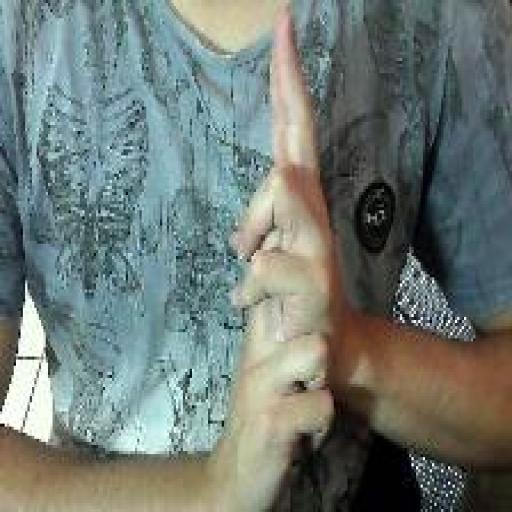Hitsuji -ram-: (224, 3, 341, 509)
